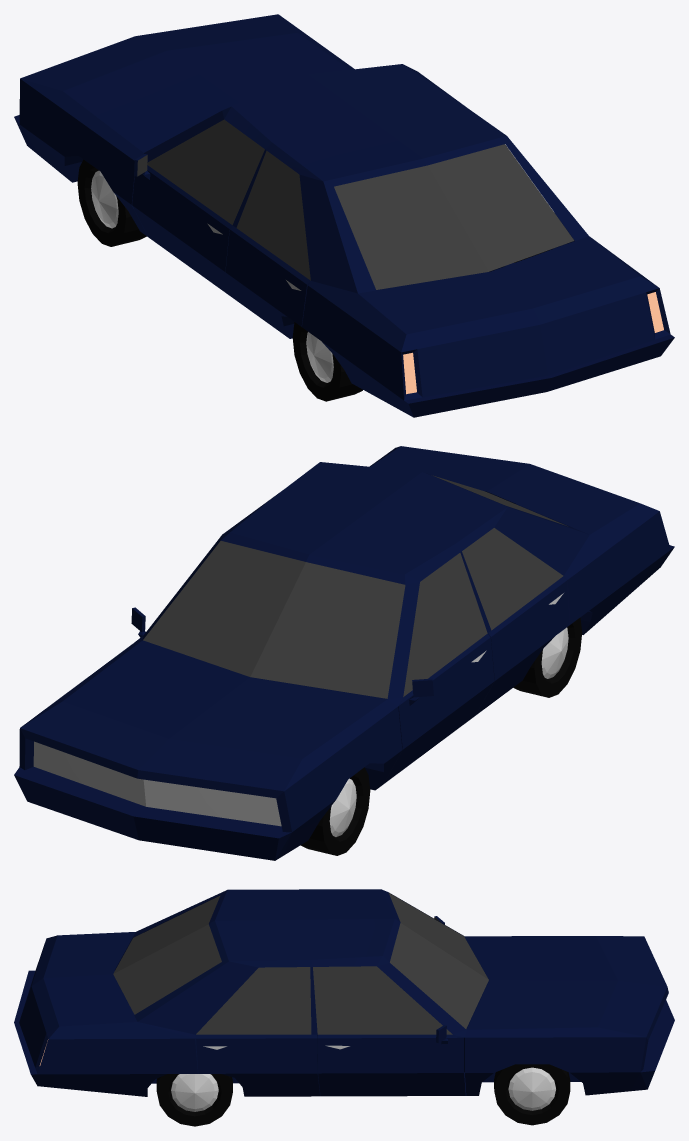
Rendered from Car_Long_1.glb.
3 views of the same model, one above another, from view 1: azimuth 30°, elevation 25°; view 2: azimuth 150°, elevation 25°; view 3: azimuth 270°, elevation 25° (orthographic). The views are drawn at different scales.
Parts seen in each view (by area): view 1: SedanA_Body.004, SedanA_DoorL.004, SedanA_DoorL2.004, Sedan_A_wheelFL.004, Sedan_A_wheelRL.004; view 2: SedanA_Body.004, SedanA_DoorL.004, SedanA_DoorL2.004, Sedan_A_wheelFL.004, Sedan_A_wheelRL.004; view 3: SedanA_Body.004, SedanA_DoorR.004, SedanA_DoorR2.004, Sedan_A_wheelFR.004, Sedan_A_wheelRR.004.
Boxes of the visible parts, x1,y1,x2,y2 form: SedanA_Body.004: (14, 14, 674, 417); SedanA_DoorL.004: (132, 119, 264, 303); SedanA_DoorL2.004: (225, 151, 310, 338); Sedan_A_wheelFL.004: (77, 159, 146, 246); Sedan_A_wheelRL.004: (292, 322, 362, 401); SedanA_Body.004: (14, 446, 674, 860); SedanA_DoorL.004: (384, 553, 494, 783); SedanA_DoorL2.004: (462, 528, 569, 715); Sedan_A_wheelFL.004: (300, 767, 370, 855); Sedan_A_wheelRL.004: (513, 617, 582, 697); SedanA_Body.004: (14, 889, 674, 1096); SedanA_DoorR.004: (313, 966, 465, 1096); SedanA_DoorR2.004: (195, 967, 319, 1096); Sedan_A_wheelFR.004: (494, 1064, 570, 1125); Sedan_A_wheelRR.004: (156, 1074, 232, 1126).
Size of the model in its own units: 2.14 by 1.39 by 5.18.
